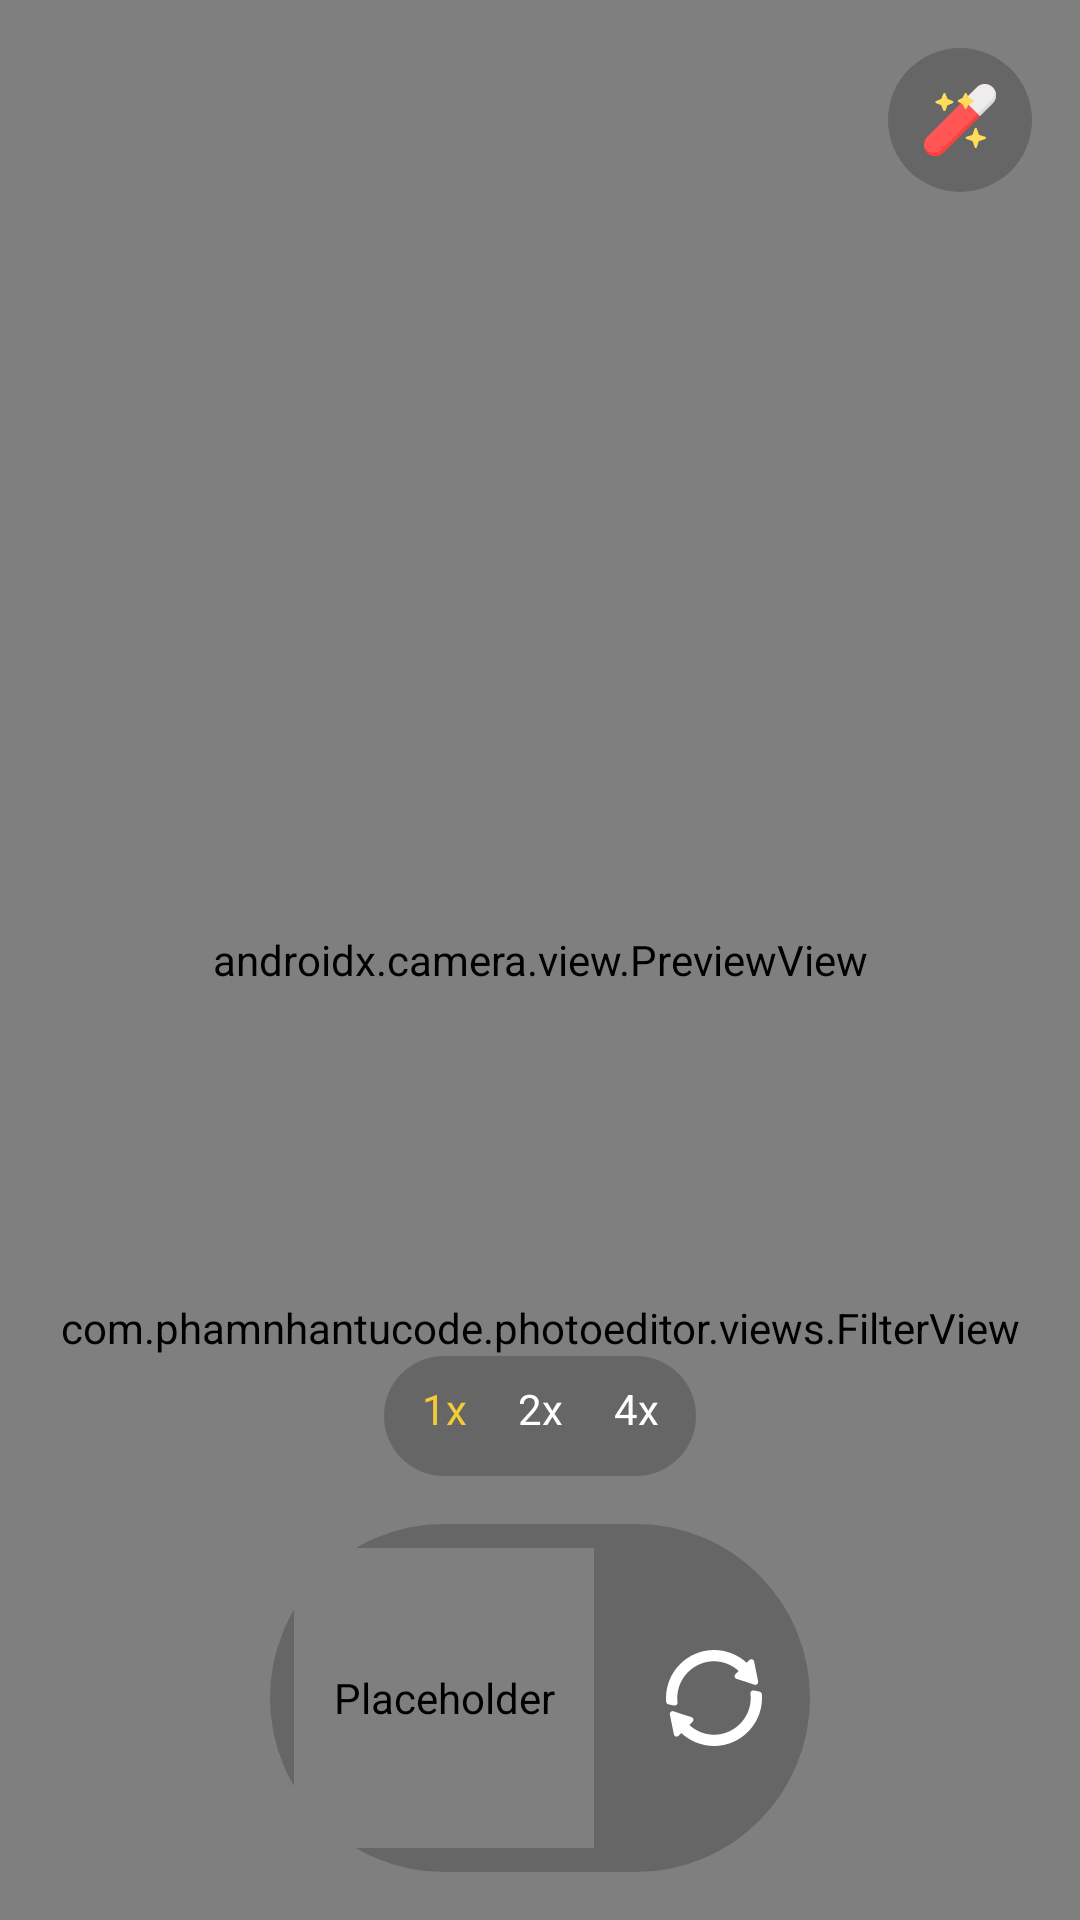

Where icons sit on this 1080 x 1920 app screen, as Rect(x1, y1, x2, y2):
filter camera: Rect(924, 84, 996, 156)
rotate: Rect(666, 1650, 762, 1746)
